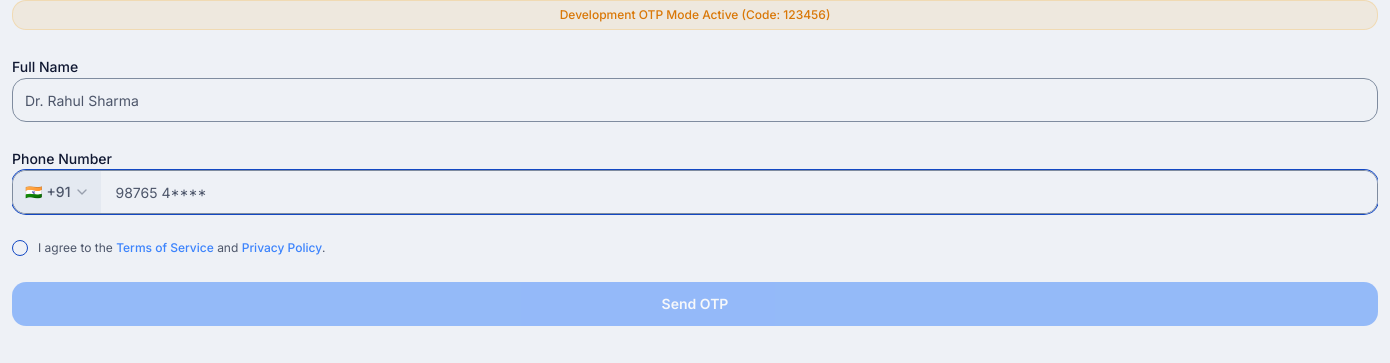
Test case: PhoneOtpForm - phone entry step › shows a validation error and does not send OTP for an invalid phone number
The image size is (1390, 363).
In the field labelled "Phone Number": point(740, 192) [104,171,1377,213], type "123"
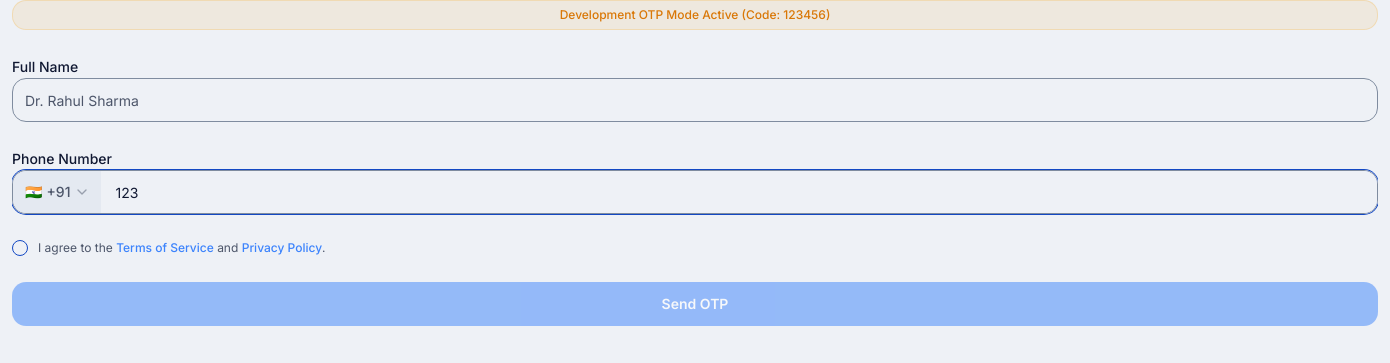
Click the checkbox named "terms of service": point(20, 248) [12,240,28,256]
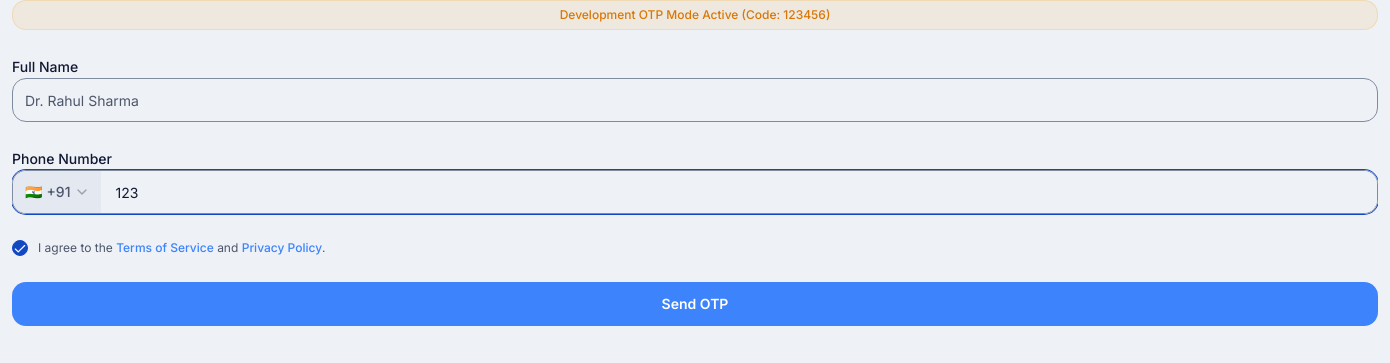
Click the button "Send OTP": point(695, 304) [12,282,1378,326]
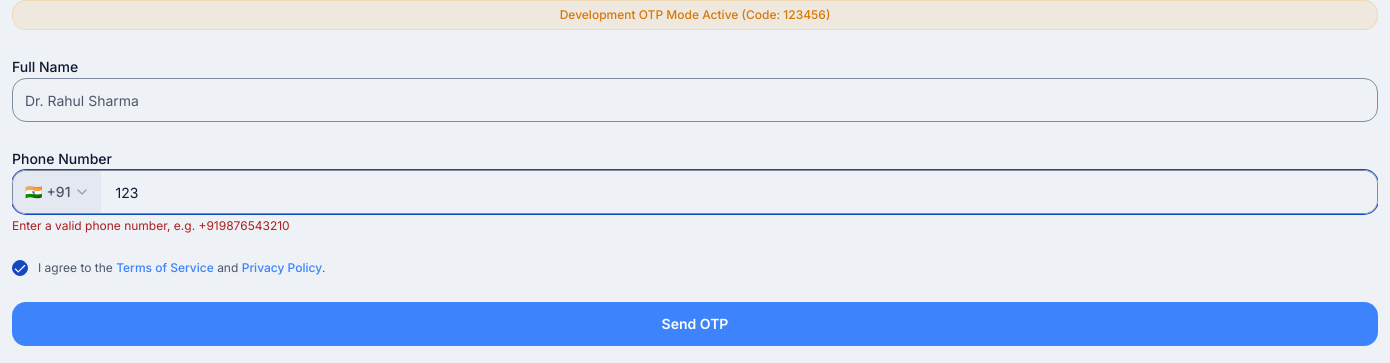
Expected: the text "Enter a valid phone number, e.g. +919876543210" is shown, [12,218,290,233]
